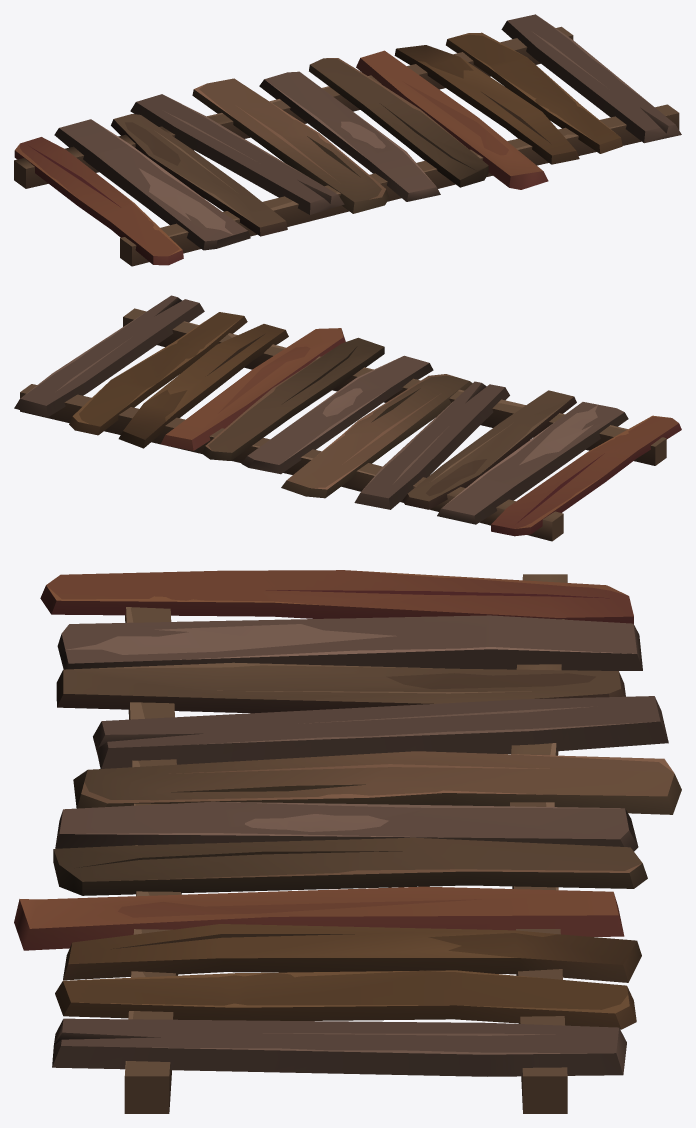
File: dock_1.glb
3 renders of one model, top to bottom at view 1: azimuth 30°, elevation 25°; view 2: azimuth 150°, elevation 25°; view 3: azimuth 270°, elevation 25°, orthographic. The views are drawn at different scales.
Parts seen in each view (by area): view 1: Dock_A; view 2: Dock_A; view 3: Dock_A.
Boxes of the visible parts, bbox=[...] form: Dock_A: bbox=[14, 14, 681, 266]; Dock_A: bbox=[14, 295, 681, 541]; Dock_A: bbox=[14, 570, 681, 1113].
Size of the model in its own units: 4 by 0.2119 by 2.25.
1 material, 1 textured.
